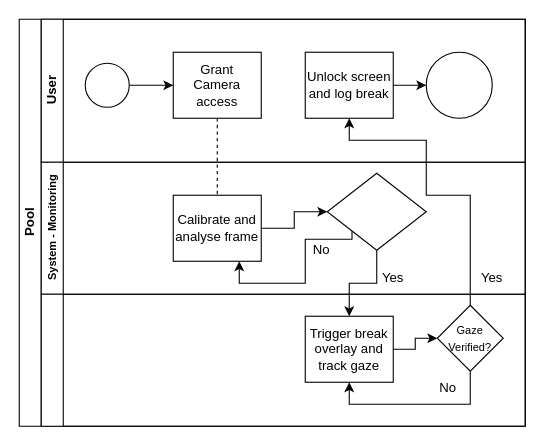
Image size: 545x446. Some labels were removed from this diagram. The box of each missing label's shape, as (x1, y1, x2, y2) in pixels:
Open App: (84, 62, 129, 107)
Resume normal use: (425, 51, 492, 118)
Strain Detected?: (326, 172, 426, 250)
System - Break Enforcement: (40, 293, 525, 426)
